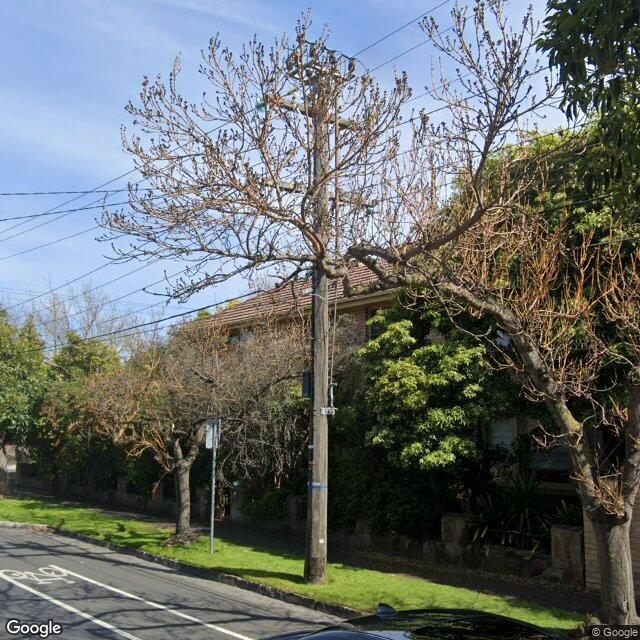HV-switch: (284, 36, 357, 88)
HV-transmission: (254, 99, 368, 162)
crossarm: (248, 174, 375, 208), (278, 97, 351, 128)
timber-pole: (303, 83, 329, 584)
